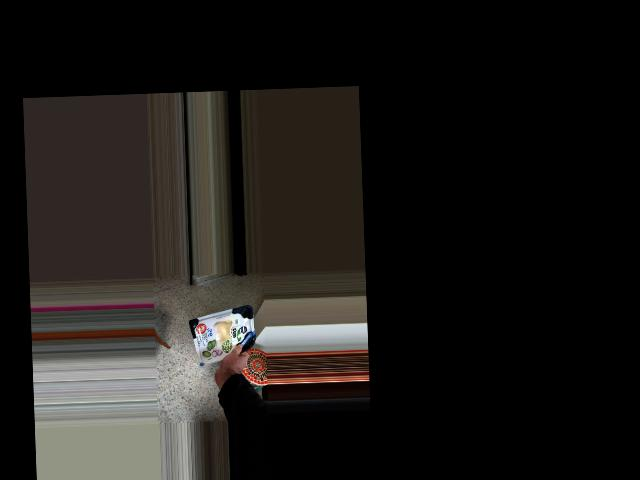cheese: (187, 310, 260, 360)
